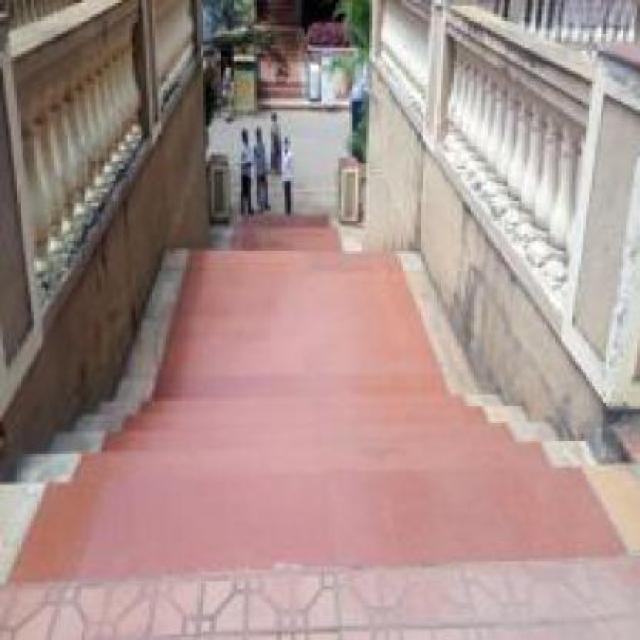stair: (100, 372, 500, 552)
